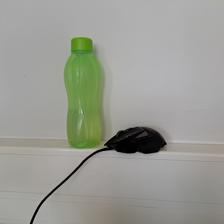bottle: (62, 36, 103, 151)
mouse: (104, 125, 168, 154)
